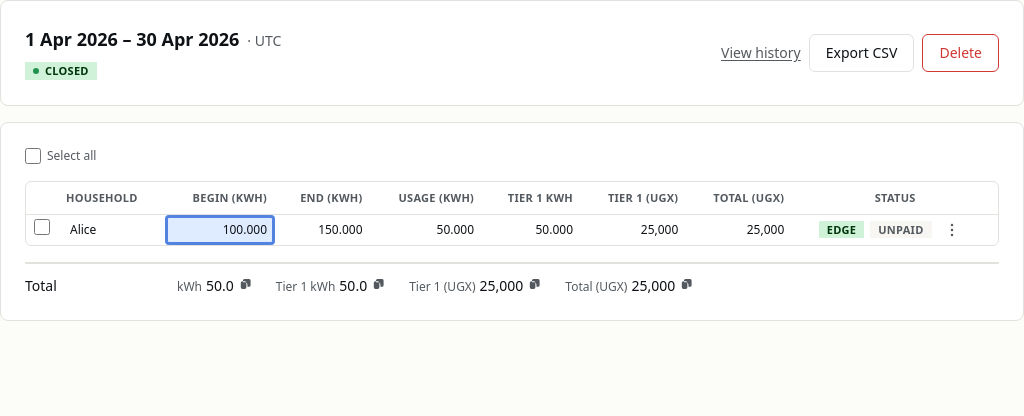
Test case: BillingTable BC3 — closed-period gating (AC6) › multi-select bulk button is disabled on closed period with the gating tooltip
The image size is (1024, 416).
Click the checkbox named "Select Alice" at {"x": 42, "y": 227}, box [34,219,50,235]
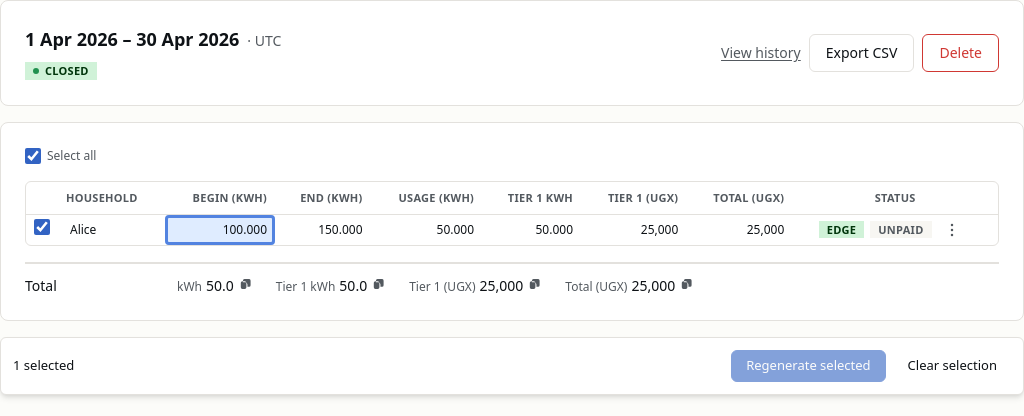
Expected: the element with test id "sticky-selection-bar" is shown, [0,336,1023,394]
Expected: the button "Regenerate selected" is disabled, [731,350,886,382]
